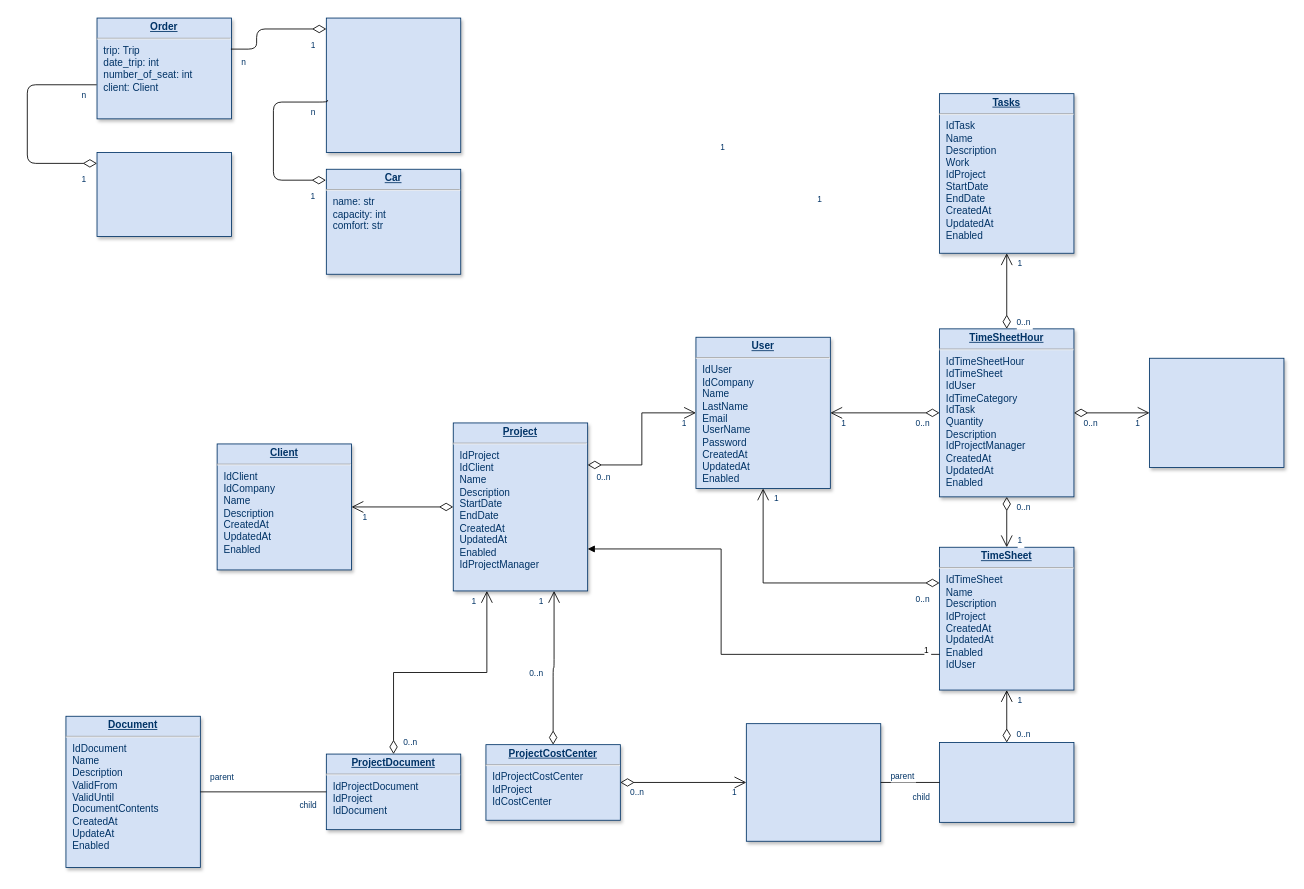
This 1304x889 diagram has some shape labels left out. The centre of each missing label's shape, as x and y in pixels:
"Client( AbstractUser) name: str phone_number: int password: str" belongs at [164,195].
"CostCenter IdCostCenter Name Description CreatedAt UpdatedAt Enabled" belongs at [814,783].
"TimeCategory IdTimeCategory Name Description CreatedAt UpdatedAt Enabled" belongs at [1217,413].
"TimeSheetCostCenter IdTimeSheetCostCenter IdTimeSheet IdCostCenter" belongs at [1007,783].
"Trip name: str departure_time: int arrival_time: int cost: int car: Car" belongs at [394,86].
